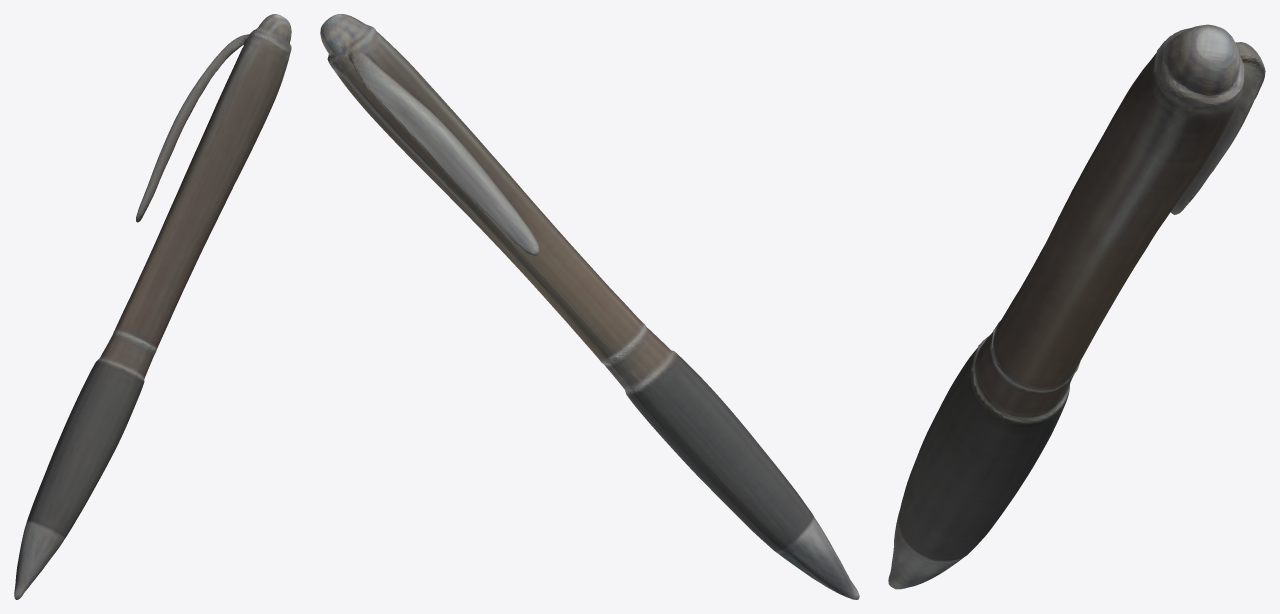
Rendered from frame_0061_source_000061_object.glb.
3 views of the same model, side by side, from view 1: azimuth 30°, elevation 25°; view 2: azimuth 150°, elevation 25°; view 3: azimuth 270°, elevation 25° (orthographic). The views are drawn at different scales.
Visible parts, largest first — view 1: world; view 2: world; view 3: world.
Boxes of the visible parts, <box> form: world: <box>14,14,291,599</box>; world: <box>320,14,859,599</box>; world: <box>888,24,1265,589</box>.
Bounding box in the file's own units: 0.1204 × 0.145 × 0.0558.
